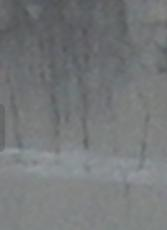fissura: (0, 35, 161, 185)
